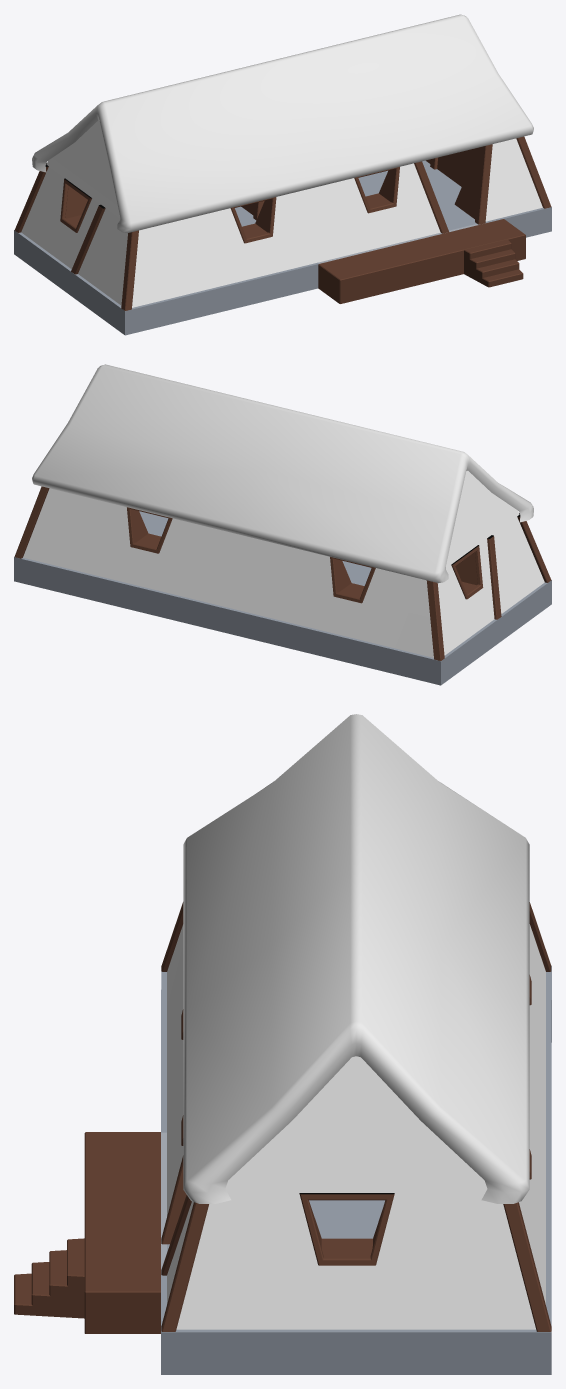
Rendered from Furniture_HutWalls.fbx.
3 views of the same model, one above another, from view 1: azimuth 30°, elevation 25°; view 2: azimuth 150°, elevation 25°; view 3: azimuth 270°, elevation 25° (orthographic). The views are drawn at different scales.
Visible parts, largest first — view 1: Roof_Thatch, Walls, Walls_Edges, Roof_Walls; view 2: Roof_Thatch, Walls, Walls_Edges, Roof_Walls; view 3: Roof_Thatch, Walls, Roof_Walls, Walls_Edges.
Boxes of the visible parts, <box> form: Roof_Thatch: <box>32,14,533,233</box>; Walls: <box>14,138,551,335</box>; Walls_Edges: <box>14,136,551,310</box>; Roof_Walls: <box>46,120,120,218</box>; Roof_Thatch: <box>32,364,533,583</box>; Walls: <box>14,488,551,685</box>; Walls_Edges: <box>14,486,551,660</box>; Roof_Walls: <box>446,470,519,567</box>; Roof_Thatch: <box>183,714,529,1203</box>; Walls: <box>14,924,551,1374</box>; Roof_Walls: <box>225,1056,487,1192</box>; Walls_Edges: <box>161,902,551,1331</box>.
Size of the model in its own units: 3683 by 1518 by 2285.
